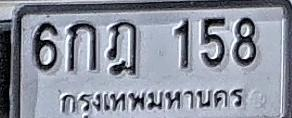1: (174, 17, 190, 68)
5: (201, 16, 226, 66)
6: (33, 22, 58, 70)
8: (234, 16, 256, 65)
A01: (68, 21, 98, 71)
A14: (107, 20, 138, 75)
BKK: (55, 86, 246, 118)
